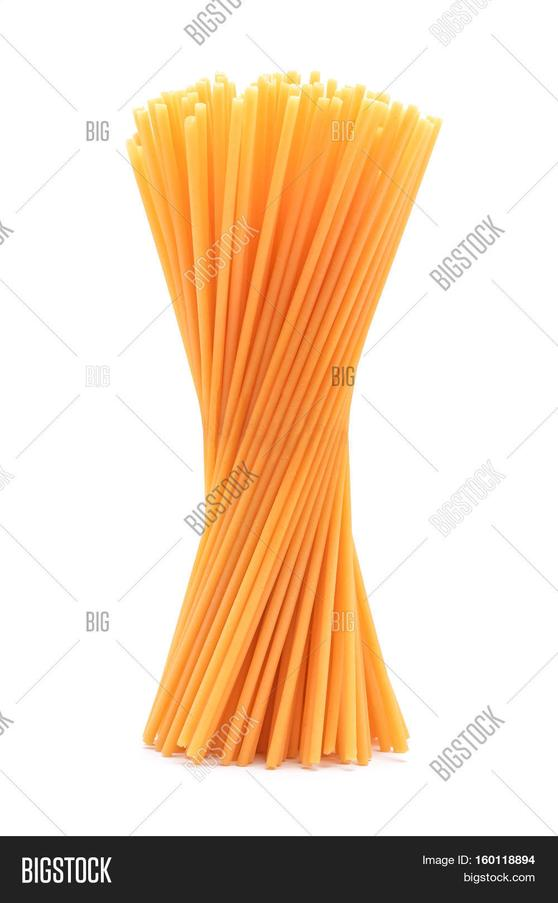spaghetti: (117, 80, 429, 759)
